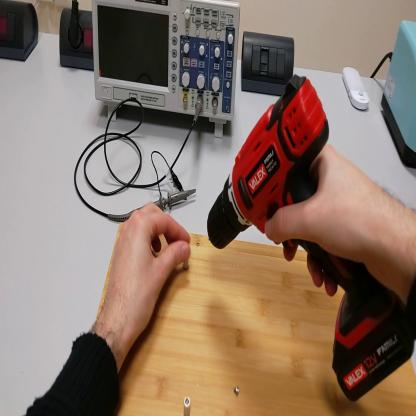electric screwdriver: (206, 75, 415, 404)
hand: (268, 146, 389, 288), (102, 203, 191, 338)
oscilloscope: (94, 2, 243, 140)
oscilloscope probe tip: (118, 188, 196, 218)
socket: (2, 2, 41, 66), (60, 5, 92, 72)
welder station: (377, 20, 416, 175)
working area: (98, 234, 416, 416)
